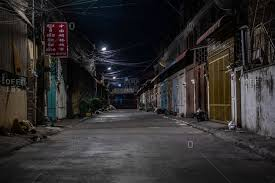strada: (3, 125, 275, 181)
